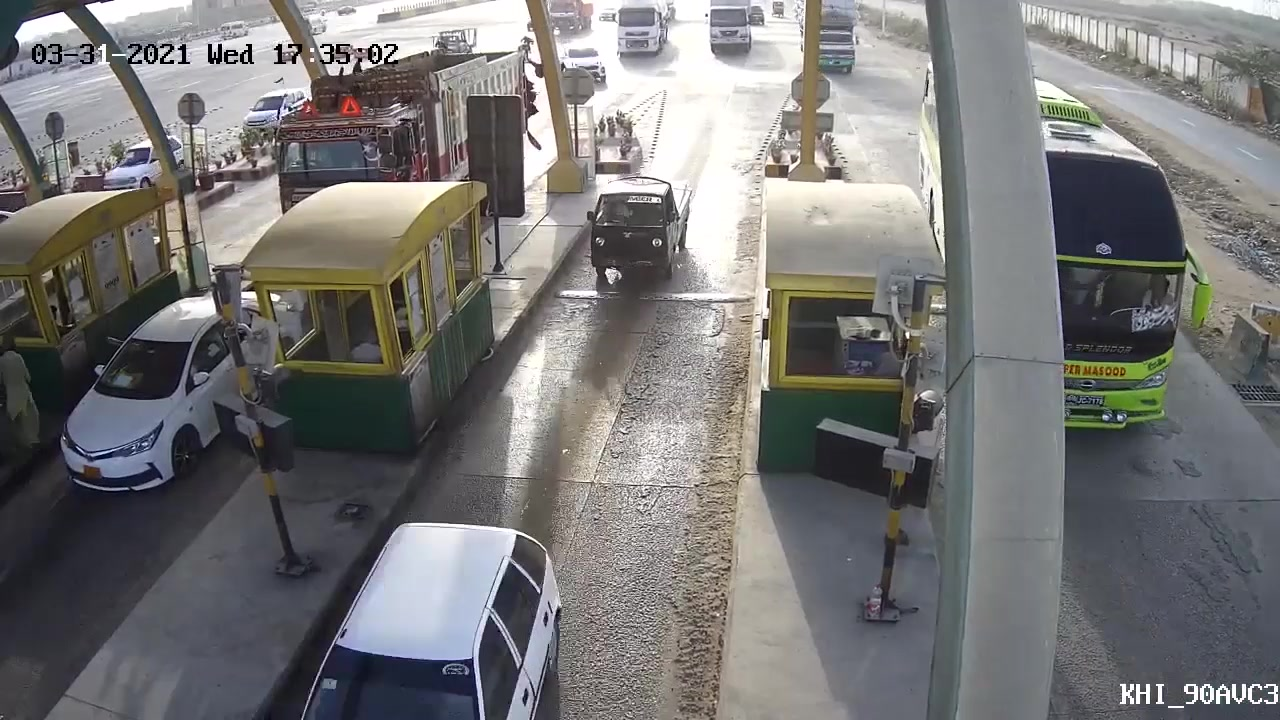F1: (569, 170, 698, 294)
